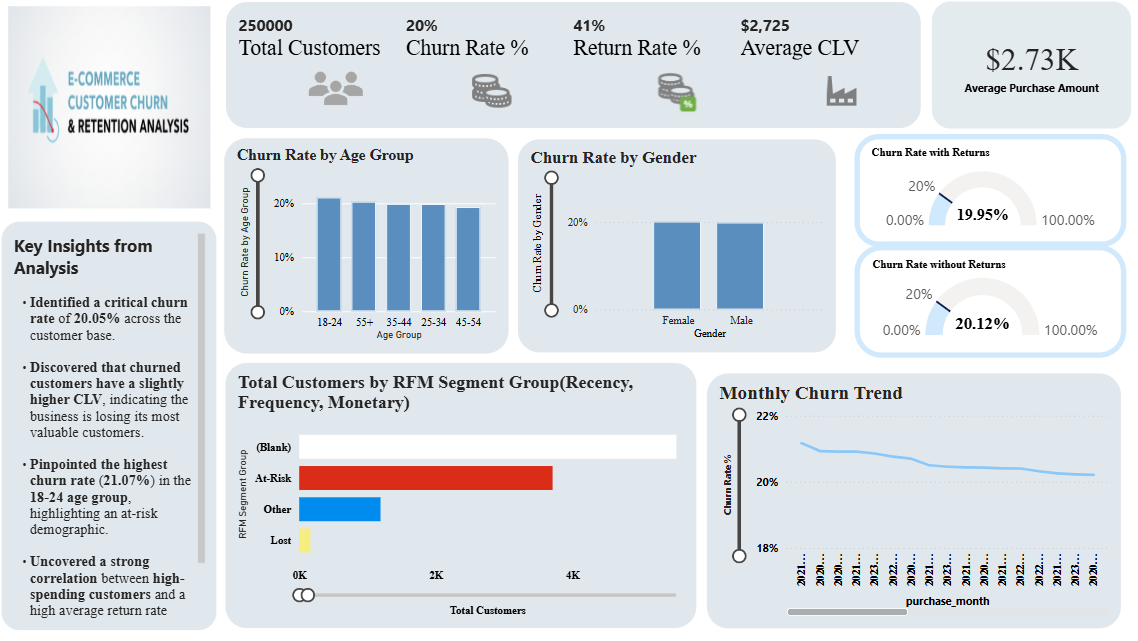

This screenshot's page, from the dashboard's own definition file:
{"tool":"powerbi","page":{"name":"Page 1","canvas":[1280,720],"ordinal":0},"visuals":[{"type":"multiRowCard","fields":{"Values":["_Measures.Total Customers","_Measures.Churn Rate %","_Measures.Return Rate %","_Measures.Average CLV"]},"box":[246.7,0,785,153.3],"z":0},{"type":"image","box":[0,0,246.7,246.7],"z":1},{"type":"clusteredColumnChart","title":"Churn Rate by Age Group","fields":{"Category":["ecommerce_data.Age Group"],"Y":["_Measures.Churn Rate by Age Group"]},"box":[246.7,153.3,325,248.3],"z":2},{"type":"clusteredColumnChart","title":"Churn Rate by Gender ","fields":{"Category":["ecommerce_data.Gender"],"Y":["_Measures.Churn Rate by Gender"]},"box":[571.7,153.3,365,248.3],"z":3},{"type":"card","title":"Average Purchase Amount","fields":{"Values":["_Measures.Average Purchase Amount"]},"box":[1031.7,0,233.3,153.3],"z":4},{"type":"gauge","title":"Churn Rate with Returns ","fields":{"Y":["_Measures.Churn Rate with Returns"],"TargetValue":["_Measures.Churn Rate %"]},"box":[951.7,153.3,301.7,125],"z":5},{"type":"gauge","title":"Churn Rate without Returns","fields":{"Y":["_Measures.Churn Rate without Returns"],"TargetValue":["_Measures.Churn Rate %"]},"box":[951.7,276.7,301.7,125],"z":6},{"type":"barChart","title":"Total Customers by RFM Segment Group(Recency, Frequency, Monetary)","fields":{"Category":["Recency, Frequency, Monetary (RFM) Analysis.RFM Segment Group"],"Y":["_Measures.Total Customers"]},"box":[246.7,401.7,535,306.7],"z":7},{"type":"lineChart","title":"Monthly Churn Trend","fields":{"Category":["ecommerce_data.purchase_month"],"Y":["_Measures.Churn Rate %"]},"box":[781.7,413.3,471.7,295],"z":8},{"type":"image","box":[340,76.7,70,51.7],"z":9},{"type":"image","box":[496.7,75,101.7,60],"z":10},{"type":"image","box":[893.3,76.7,88.3,56.7],"z":11},{"type":"image","box":[703.3,75,101.7,63.3],"z":12},{"type":"textbox","box":[0,246.7,246.7,461.7],"z":13}]}

Visuals, with their boxes in screenshot pixels (x1, y1, x2, y2), scaled from the page's 1280x720 canvas onto the 1138x641 screenshot:
multiRowCard - _Measures.Total Customers x _Measures.Churn Rate %: box=[219, 0, 917, 136]
image: box=[0, 0, 219, 220]
"Churn Rate by Age Group" clusteredColumnChart: box=[219, 136, 508, 358]
"Churn Rate by Gender " clusteredColumnChart: box=[508, 136, 833, 358]
"Average Purchase Amount" card: box=[917, 0, 1125, 136]
"Churn Rate with Returns " gauge: box=[846, 136, 1114, 248]
"Churn Rate without Returns" gauge: box=[846, 246, 1114, 358]
"Total Customers by RFM Segment Group(Recency, Frequency, Monetary)" barChart: box=[219, 358, 695, 631]
"Monthly Churn Trend" lineChart: box=[695, 368, 1114, 631]
image: box=[302, 68, 365, 114]
image: box=[442, 67, 532, 120]
image: box=[794, 68, 873, 119]
image: box=[625, 67, 716, 123]
textbox: box=[0, 220, 219, 631]
